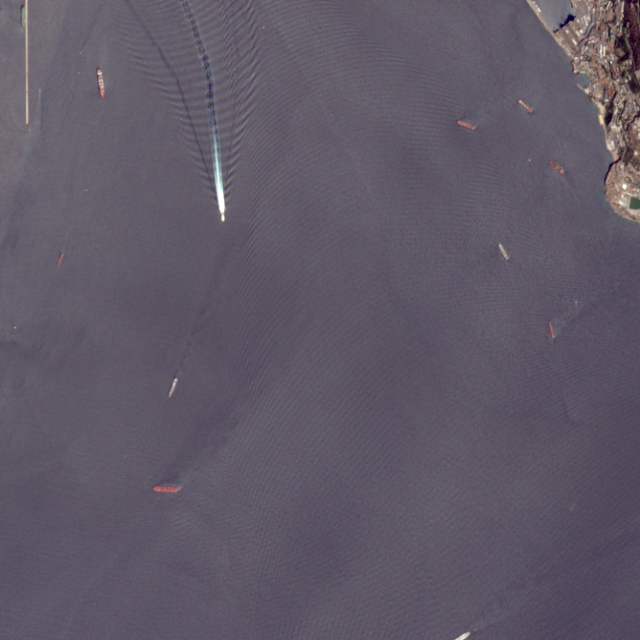wake: (146, 32, 281, 240)
